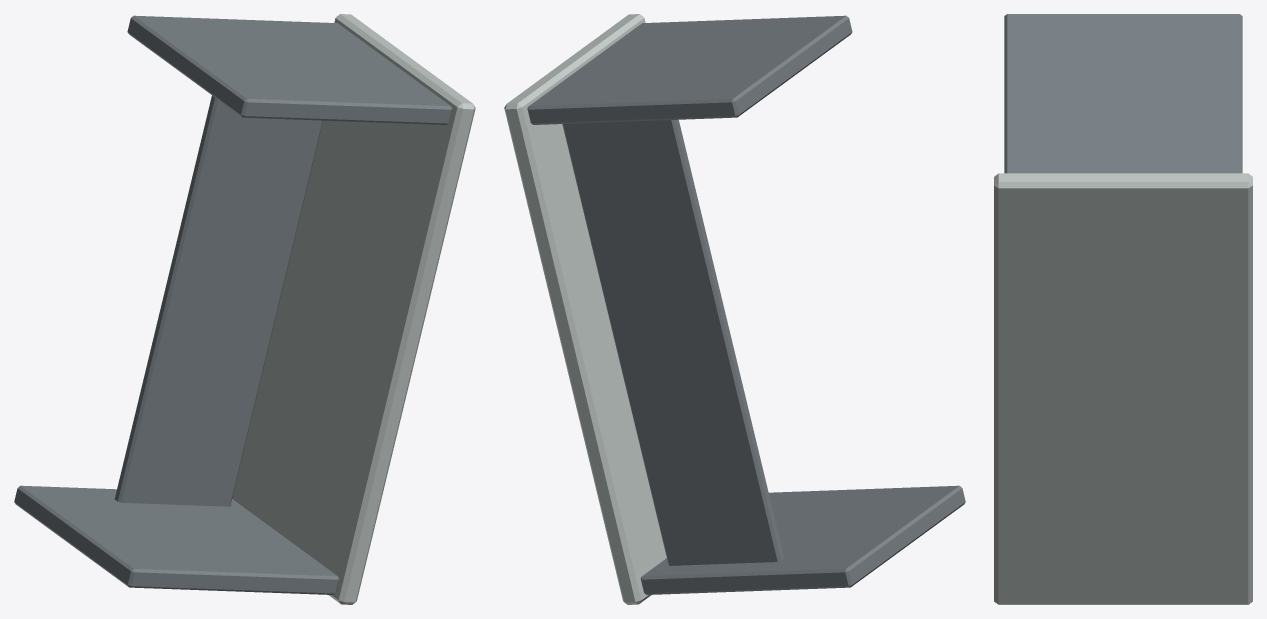
Rendered from OverturnedDesk.fbx.
3 views of the same model, side by side, from view 1: azimuth 30°, elevation 25°; view 2: azimuth 150°, elevation 25°; view 3: azimuth 270°, elevation 25° (orthographic). The views are drawn at different scales.
Visible parts, largest first — view 1: OverturnedDesk; view 2: OverturnedDesk; view 3: OverturnedDesk.
Part boxes in pixels (x1=…): OverturnedDesk: x1=14, y1=14, x2=475, y2=604; OverturnedDesk: x1=504, y1=14, x2=965, y2=604; OverturnedDesk: x1=994, y1=14, x2=1252, y2=604.
Bounding box in the file's own units: 118 × 173 × 75.
Materials: 1 (1 with a texture image).
